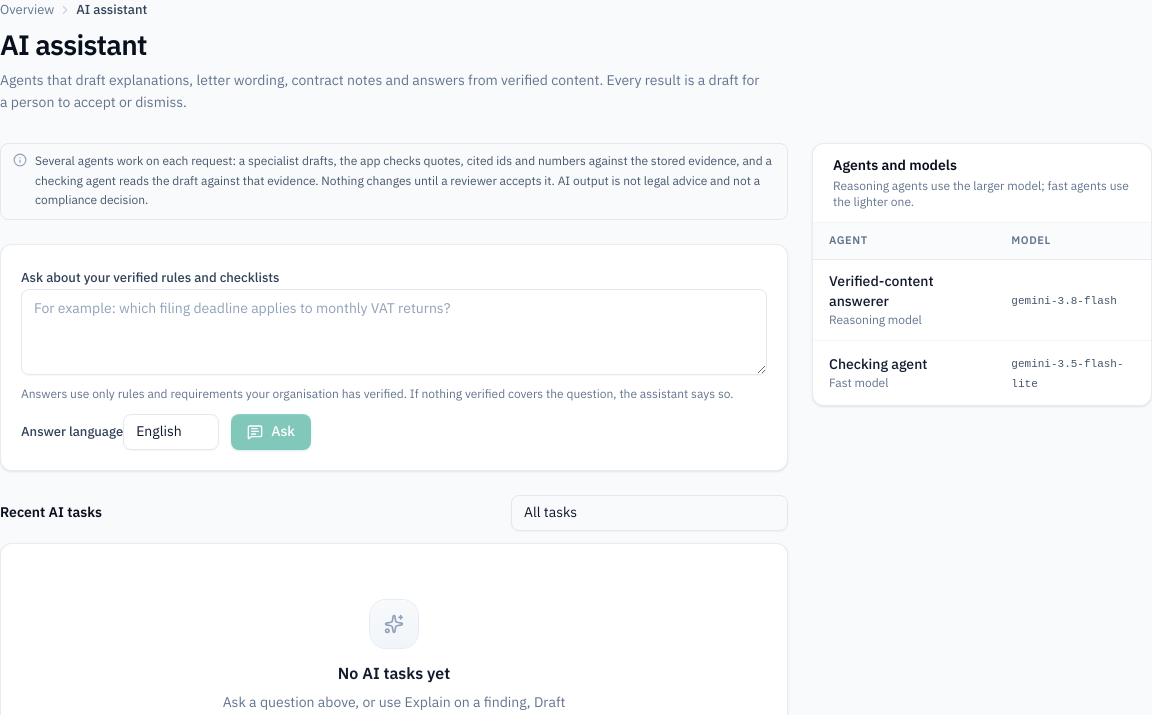
Test: asks a question and shows the answer, sources, models and the draft label
Expected: the text "gemini-3.8-flash" is shown, [1011, 295, 1117, 307]
Expected: the text "No AI tasks yet" is shown, [338, 662, 450, 686]
Type "Which deadline applies?" into the text box labelled "Ask about your verified rules and checklists" at (394, 332), box [21, 288, 767, 375]
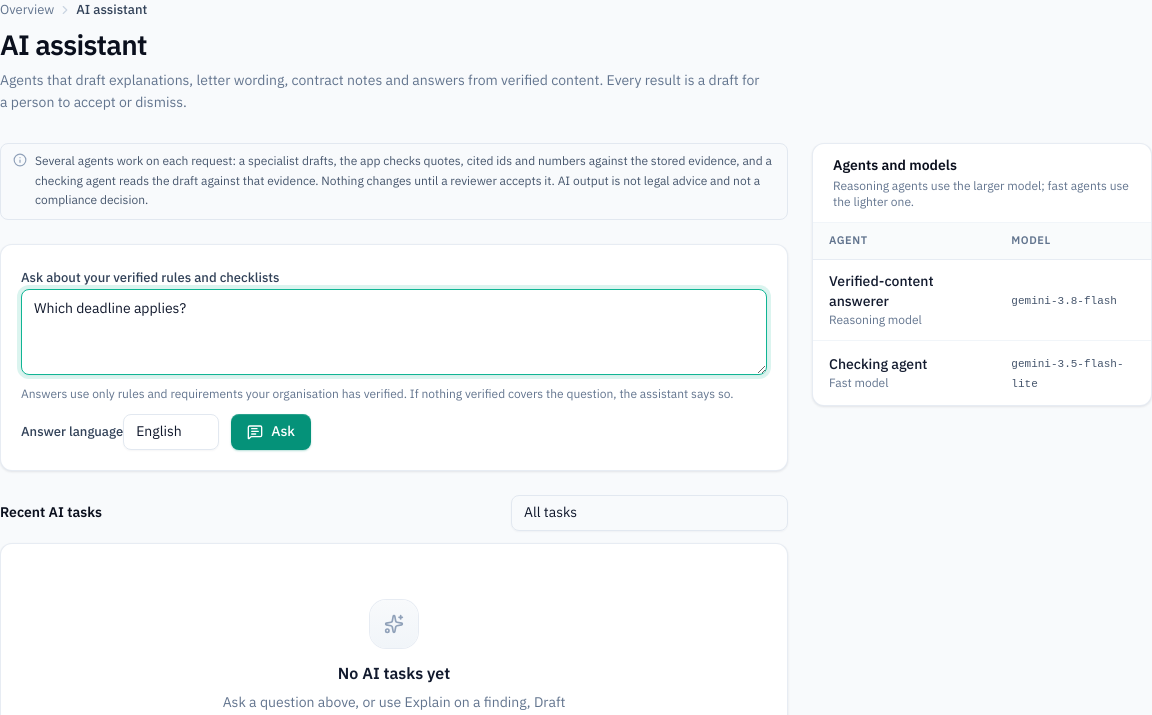
Click the button "Ask" at (271, 432), box [231, 414, 311, 450]
(page scrolled)
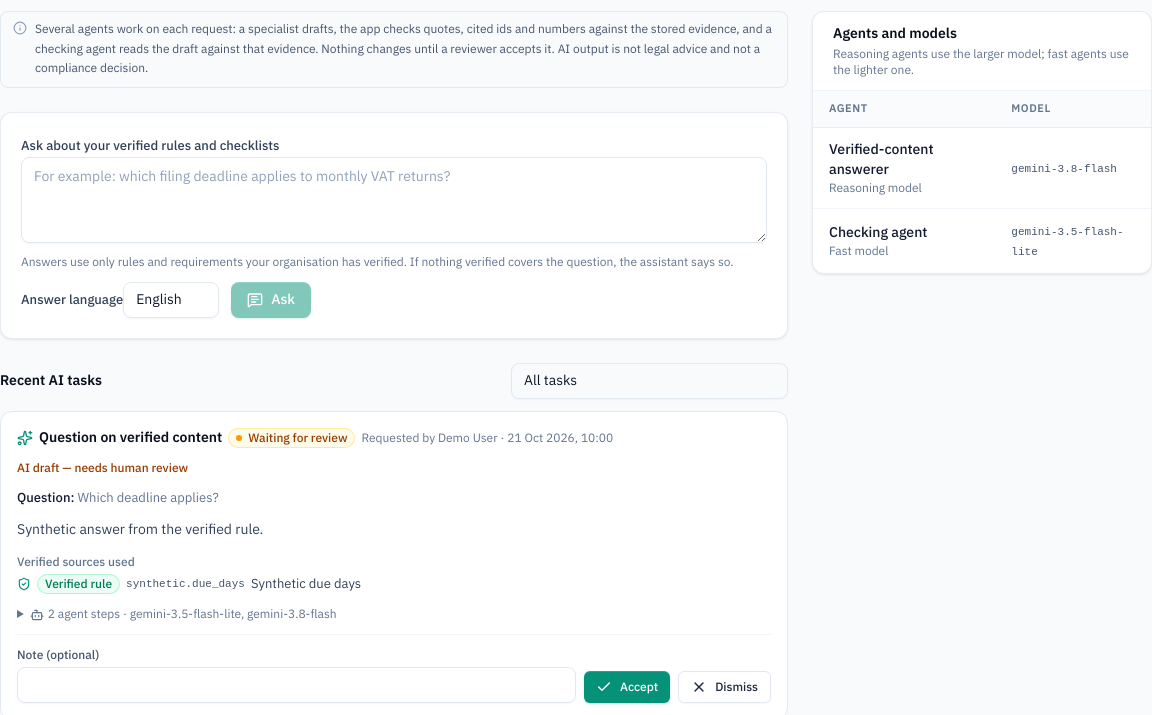
Now the text "Synthetic answer from the verified rule." is shown, box [17, 519, 263, 540]
Now the text "AI draft — needs human review" is shown, box [17, 459, 188, 477]
Now the text "Synthetic due days" is shown, box [251, 574, 361, 594]
